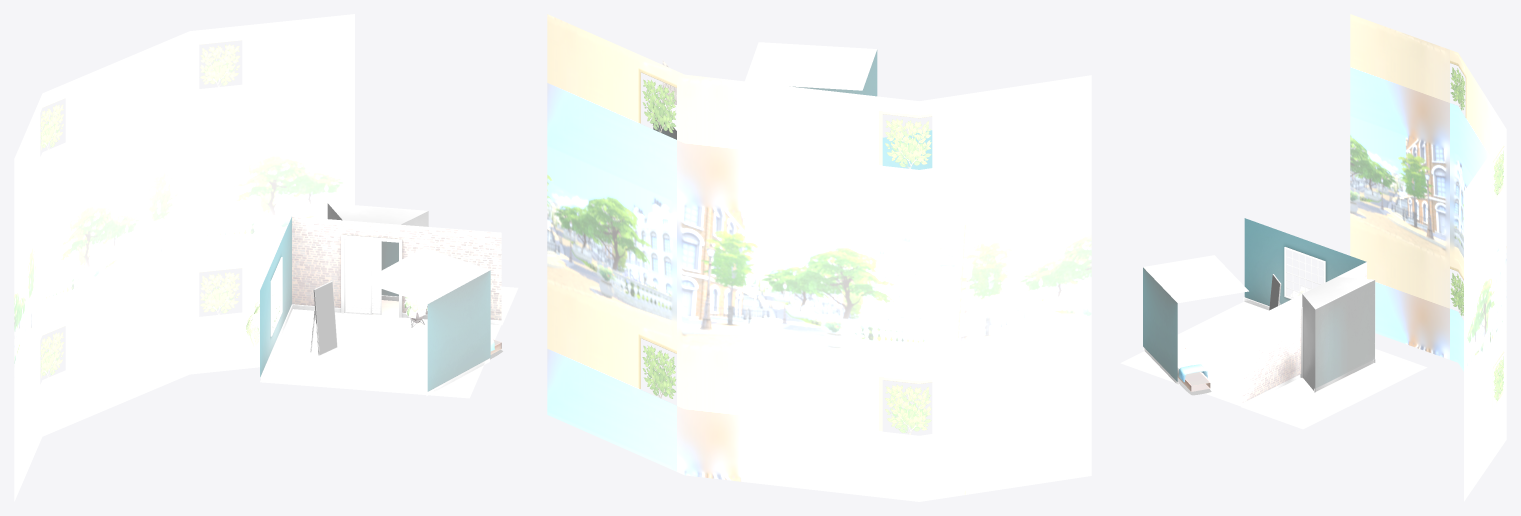
Rendered from room.fbx.
3 renders of one model, left to right at view 1: azimuth 30°, elevation 25°; view 2: azimuth 150°, elevation 25°; view 3: azimuth 270°, elevation 25°, orthographic. The views are drawn at different scales.
Visible parts, largest first — view 1: Plane.008, Plane.000, Plane.009, Plane.010; view 2: Plane.008, Plane.000; view 3: Plane.008, Plane.000, Plane.009.
Boxes of the visible parts, bbox=[...] form: Plane.008: bbox=[14, 14, 354, 501]; Plane.000: bbox=[260, 216, 518, 398]; Plane.009: bbox=[270, 203, 501, 355]; Plane.010: bbox=[315, 282, 336, 354]; Plane.008: bbox=[547, 14, 1091, 501]; Plane.000: bbox=[653, 42, 932, 169]; Plane.008: bbox=[1290, 14, 1506, 501]; Plane.000: bbox=[1120, 218, 1427, 429]; Plane.009: bbox=[1177, 247, 1375, 392].
Bounding box in the file's own units: 1555 × 1067 × 1206.
